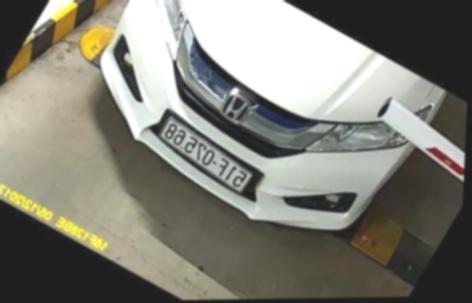License_Plate: (148, 116, 260, 187)
